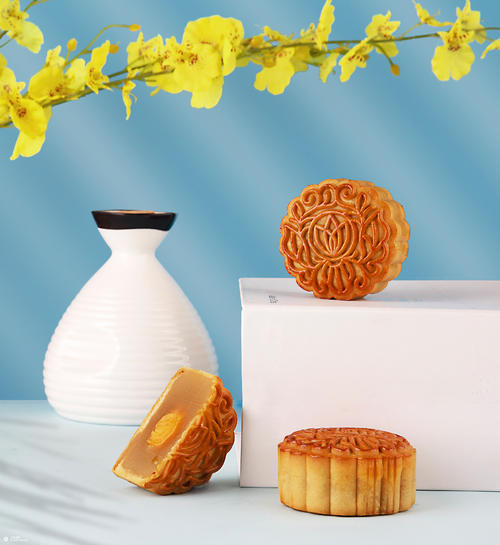MoonCake: (113, 365, 237, 495), (279, 177, 409, 301), (277, 427, 417, 517)
